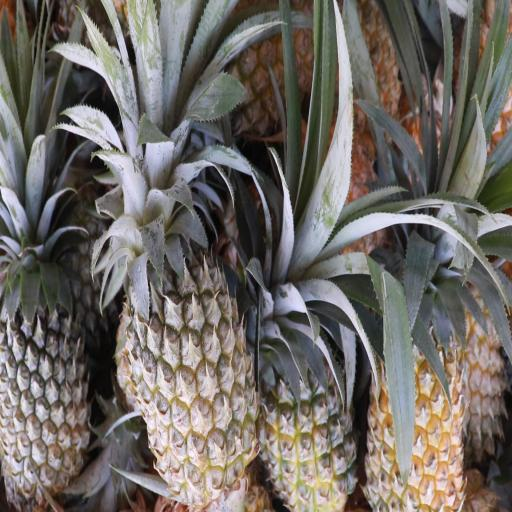------------------------------: (123, 215, 264, 511), (258, 333, 362, 512)
Pineapple - v8 v1: (367, 293, 467, 512)
